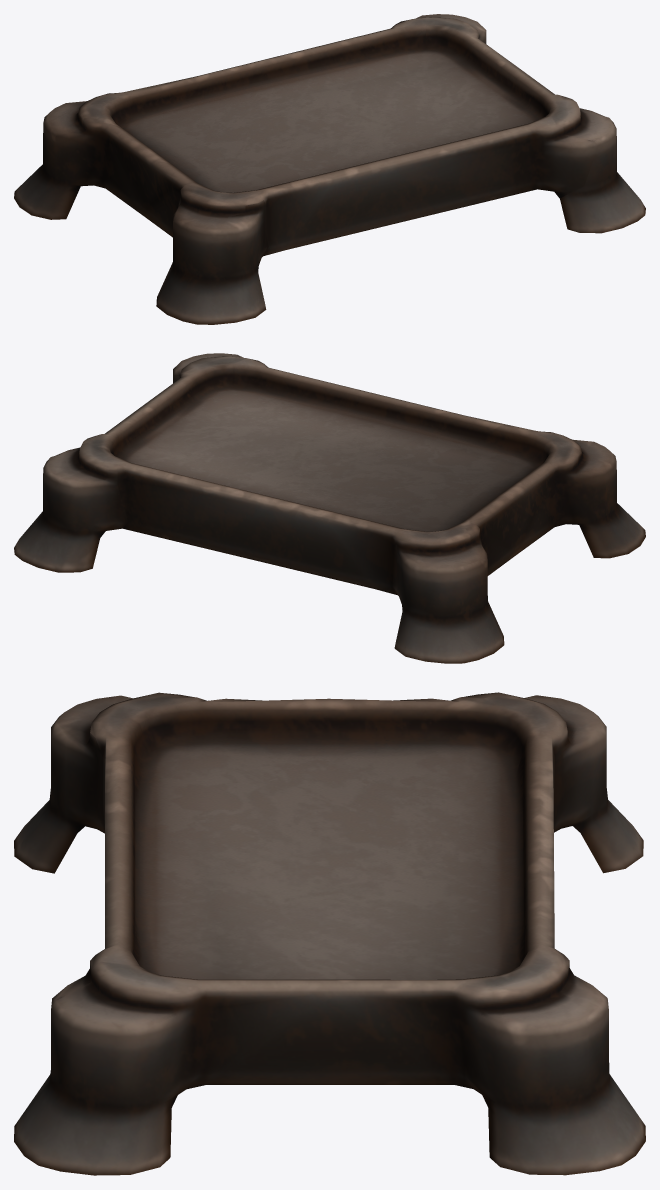
The model's file is SM_FireToolsBasetray.fbx.
3 renders of one model, top to bottom at view 1: azimuth 30°, elevation 25°; view 2: azimuth 150°, elevation 25°; view 3: azimuth 270°, elevation 25°, orthographic. The views are drawn at different scales.
Visible parts, largest first — view 1: SM_FireToolsBasetray_LOD0; view 2: SM_FireToolsBasetray_LOD0; view 3: SM_FireToolsBasetray_LOD0.
Boxes of the visible parts, x1,y1,x2,y2 form: SM_FireToolsBasetray_LOD0: (14, 14, 645, 324); SM_FireToolsBasetray_LOD0: (14, 353, 645, 663); SM_FireToolsBasetray_LOD0: (14, 692, 645, 1175).
Bounding box in the file's own units: 60.25 × 43.64 × 11.4.
1 material, 1 textured.
